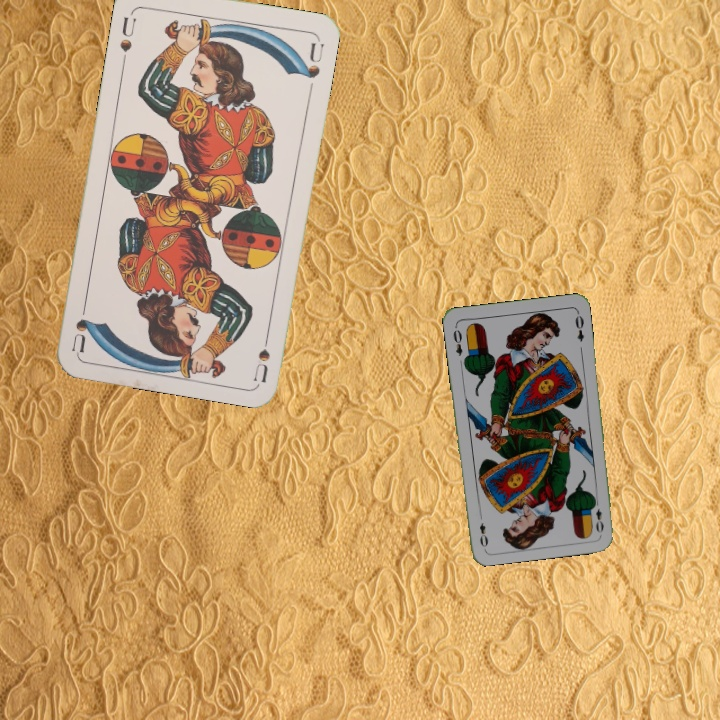EO: (589, 495, 606, 535), (449, 322, 465, 358)
SU: (249, 324, 273, 383), (116, 7, 139, 66)
